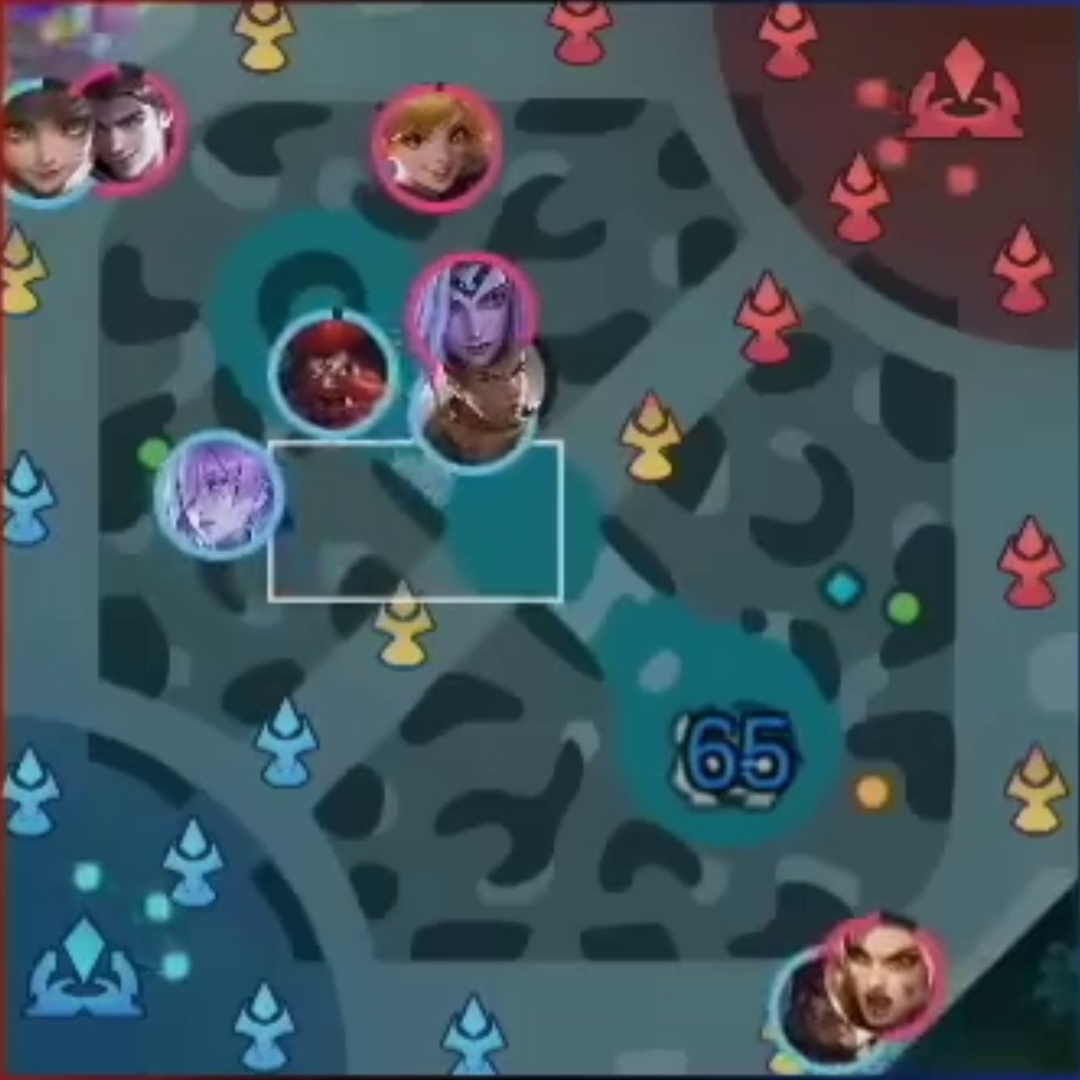Chou: (454, 371, 535, 422)
Claude: (96, 89, 165, 179)
Fanny: (391, 99, 471, 194)
Lapu-Lapu: (801, 966, 851, 1059)
Masha: (849, 929, 929, 1020)
Minotaur: (287, 327, 375, 420)
Novaria: (168, 450, 263, 539)
Valentina: (421, 271, 508, 360)
Wanwan: (9, 95, 86, 191)
